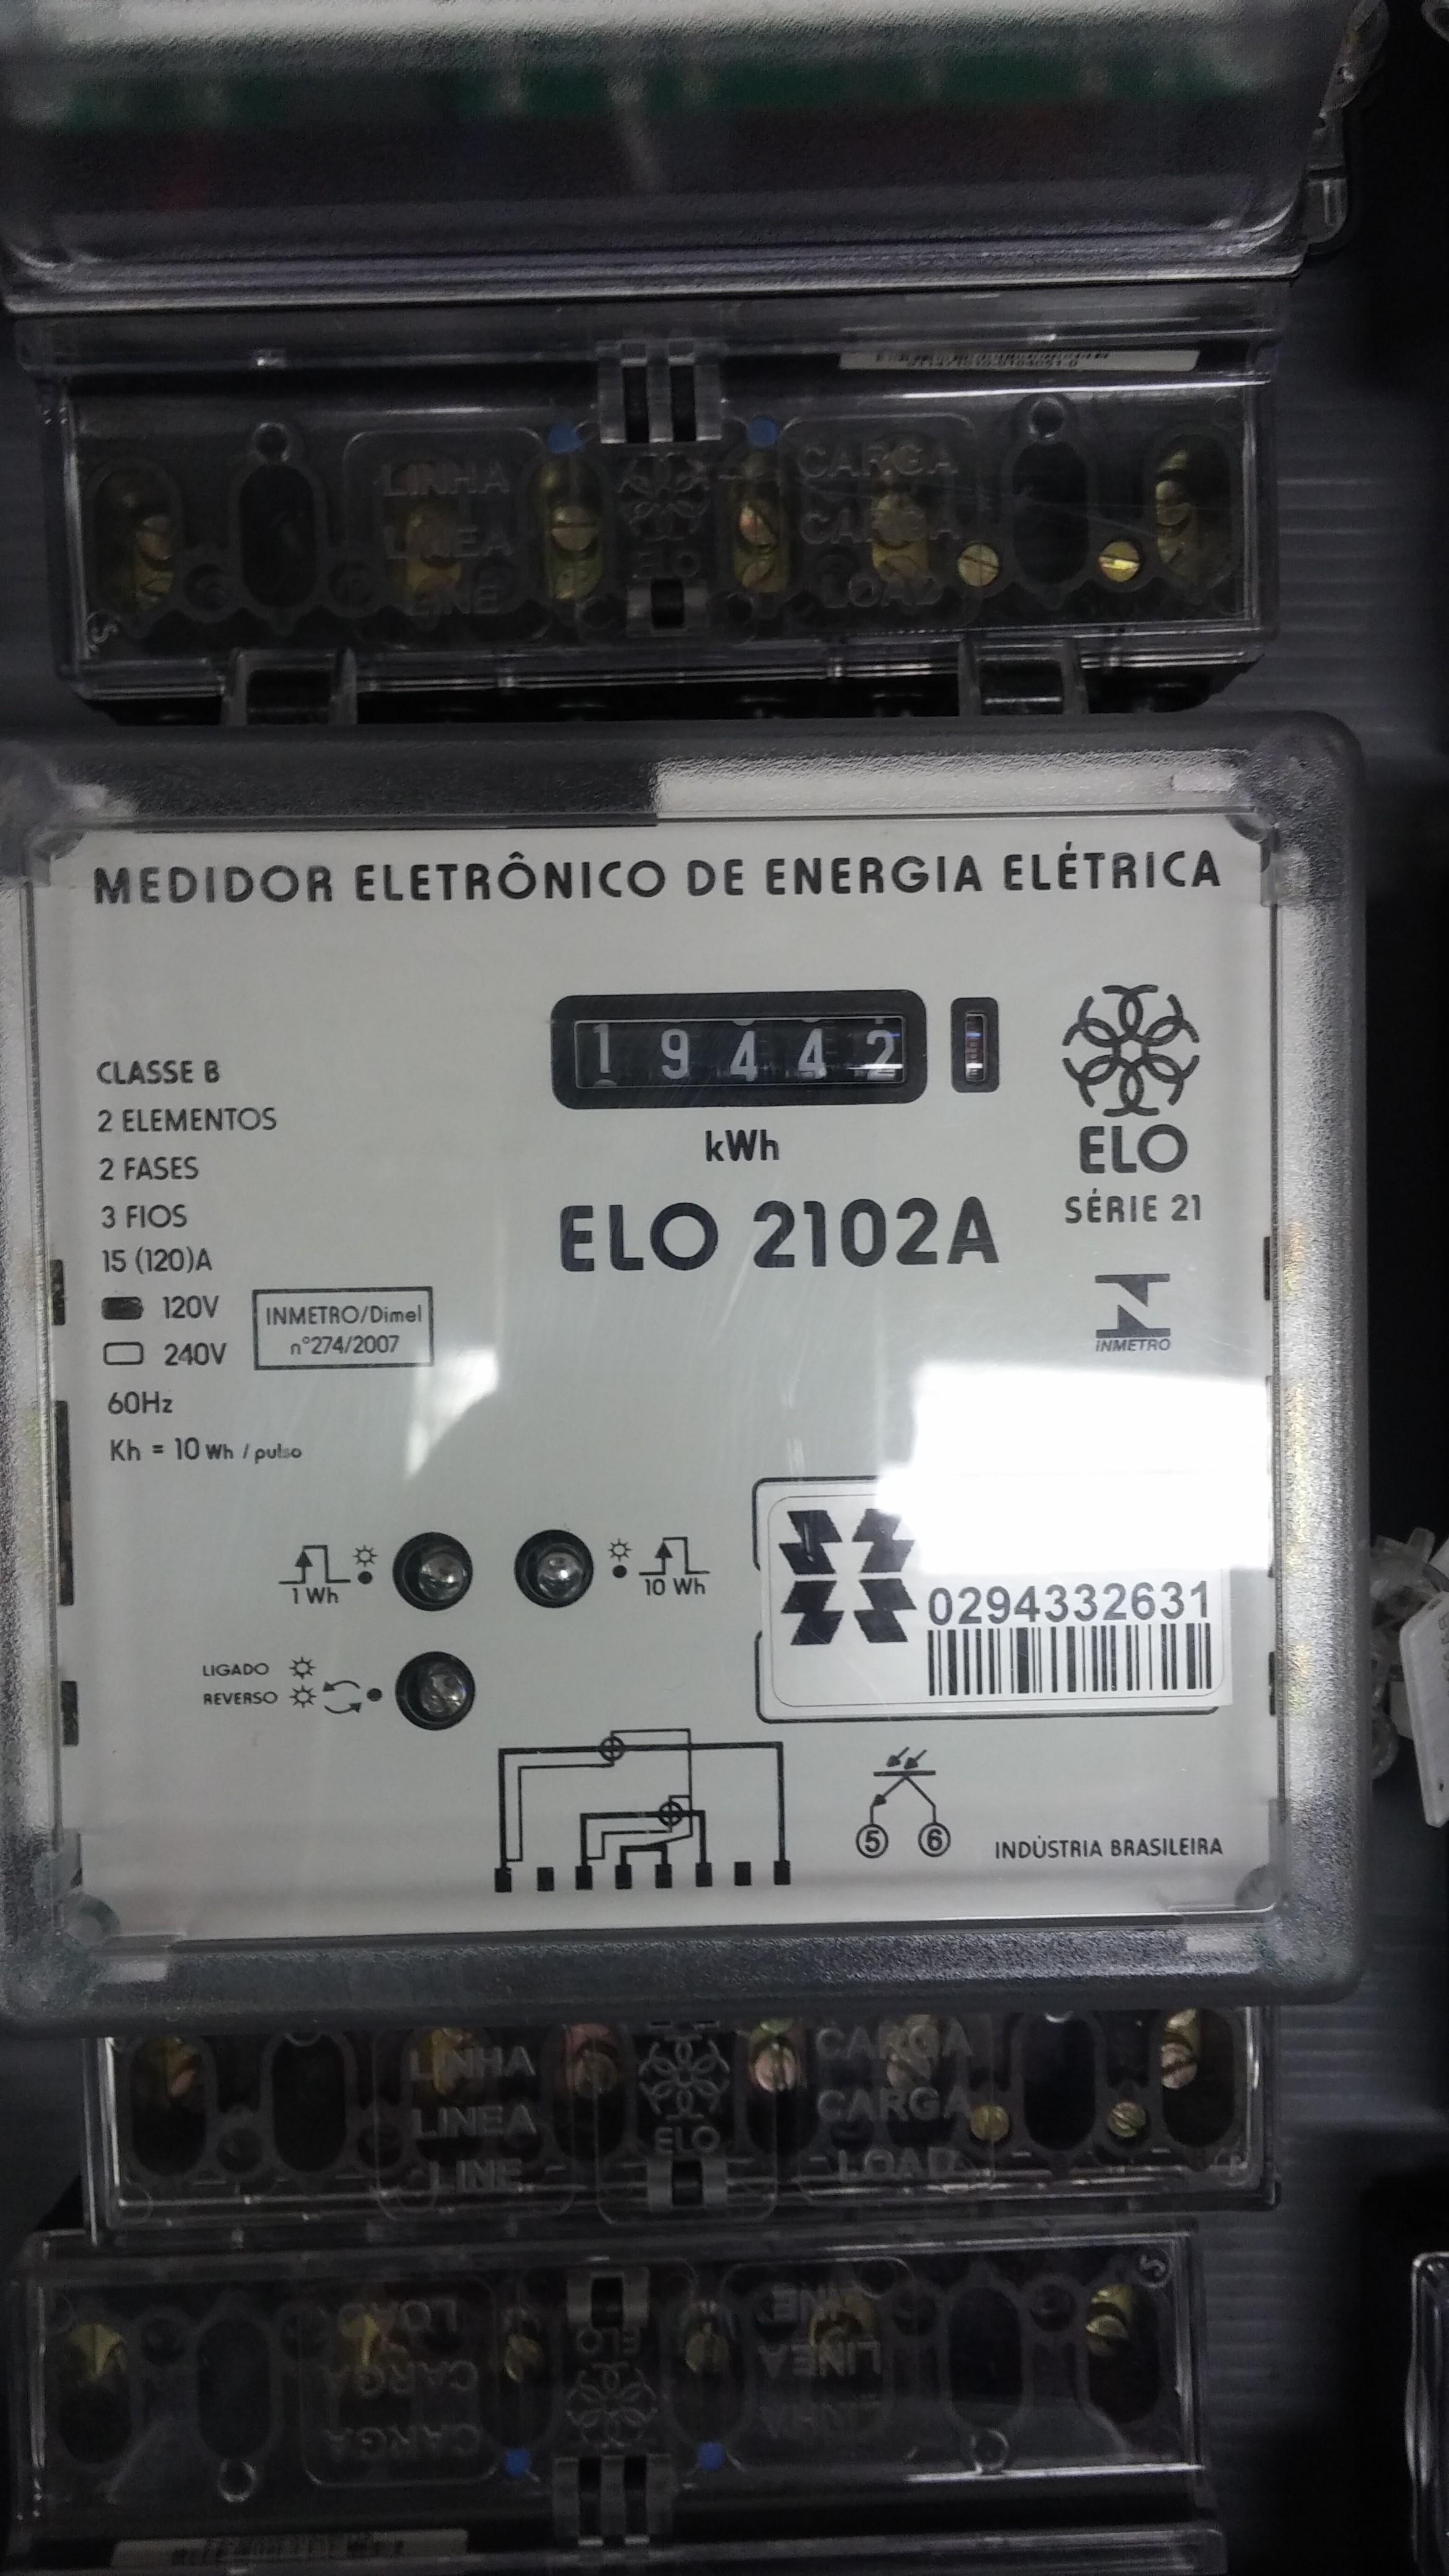counter2: (534, 985, 945, 1118)
